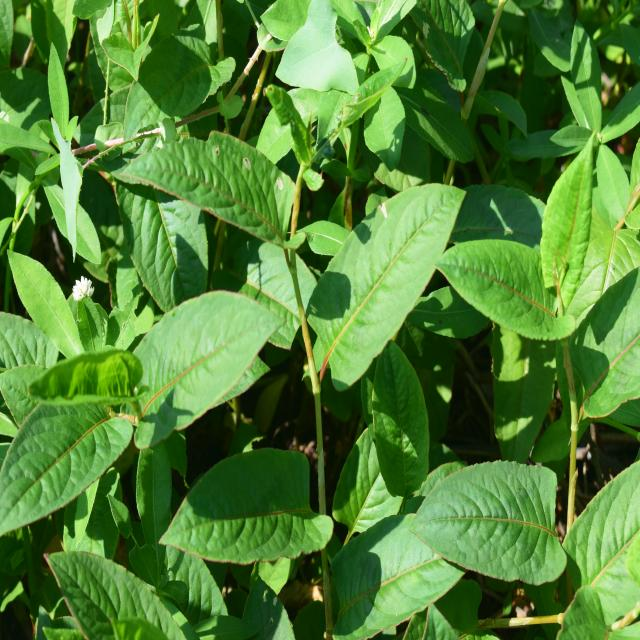Chinese_knotweed: (102, 112, 450, 407), (22, 290, 327, 584)
